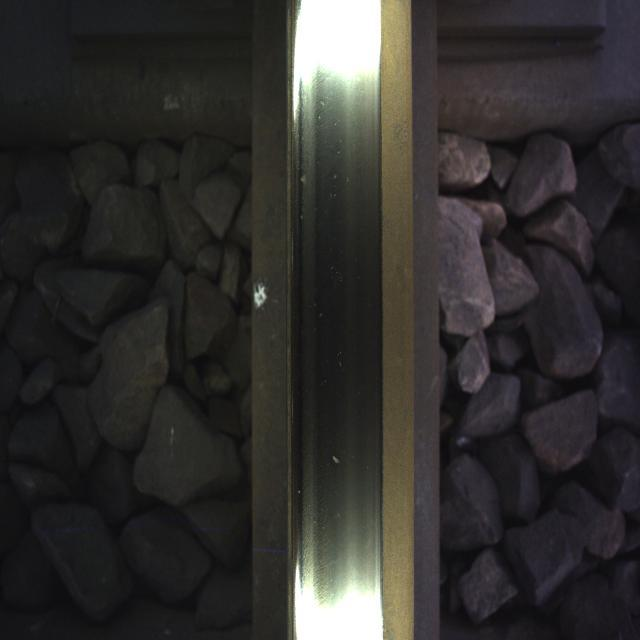normal: (290, 64, 386, 570)
